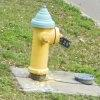a fire hydrant: (29, 8, 55, 76)
